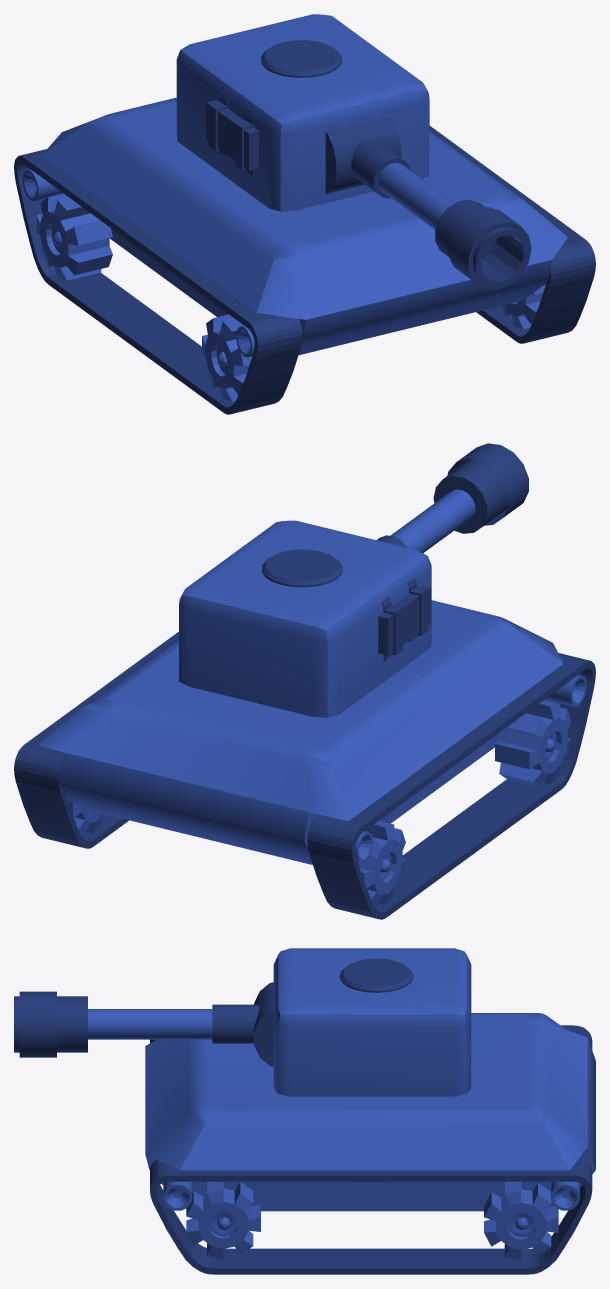
File: Tank_Final.fbx
3 renders of one model, top to bottom at view 1: azimuth 30°, elevation 25°; view 2: azimuth 150°, elevation 25°; view 3: azimuth 270°, elevation 25°, orthographic. The views are drawn at different scales.
Visible parts, largest first — view 1: tank_body, tank_turret; view 2: tank_body, tank_turret; view 3: tank_body, tank_turret.
Boxes of the visible parts, x1=… form: tank_body: x1=14, y1=97, x2=595, y2=414; tank_turret: x1=176, y1=14, x2=531, y2=289; tank_body: x1=14, y1=600, x2=595, y2=919; tank_turret: x1=179, y1=443, x2=528, y2=717; tank_body: x1=145, y1=1013, x2=595, y2=1274; tank_turret: x1=14, y1=948, x2=471, y2=1096.
Size of the model in its own units: 12.43 by 8.79 by 20.44.
